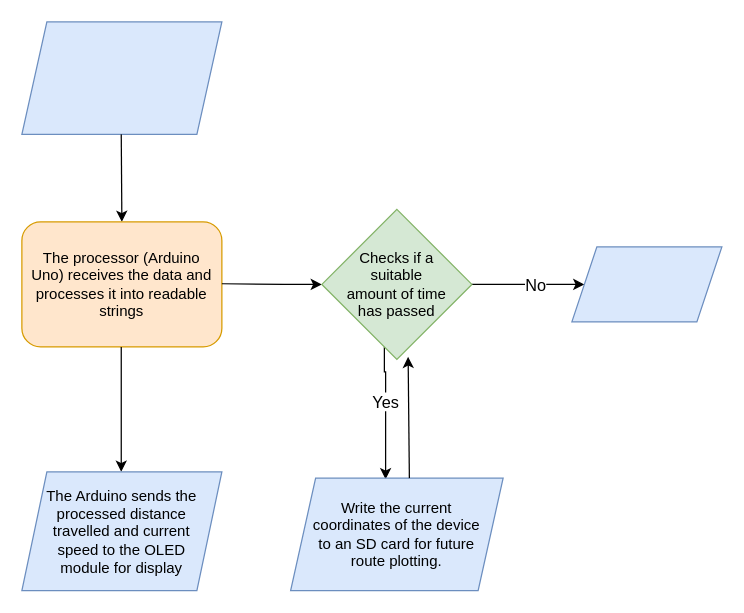
The diagram is 744 pixels wide and 613 high, and some of its shapes have lost their labels. Each missing label, with the centre of its shape:
Do Nothing: (646,284)
The GPS Module receives the GPS data and sends that to the processor: (121,77)
